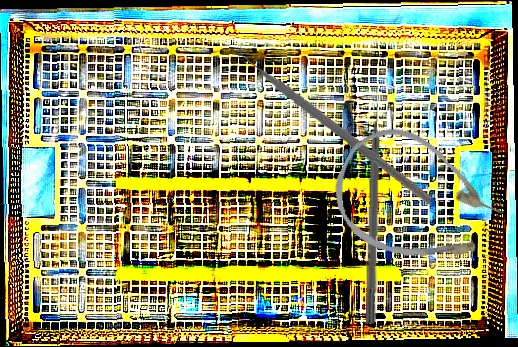Cannula: (317, 111, 518, 292)
Chopper: (225, 31, 447, 206)
Pusher: (364, 90, 386, 325)
